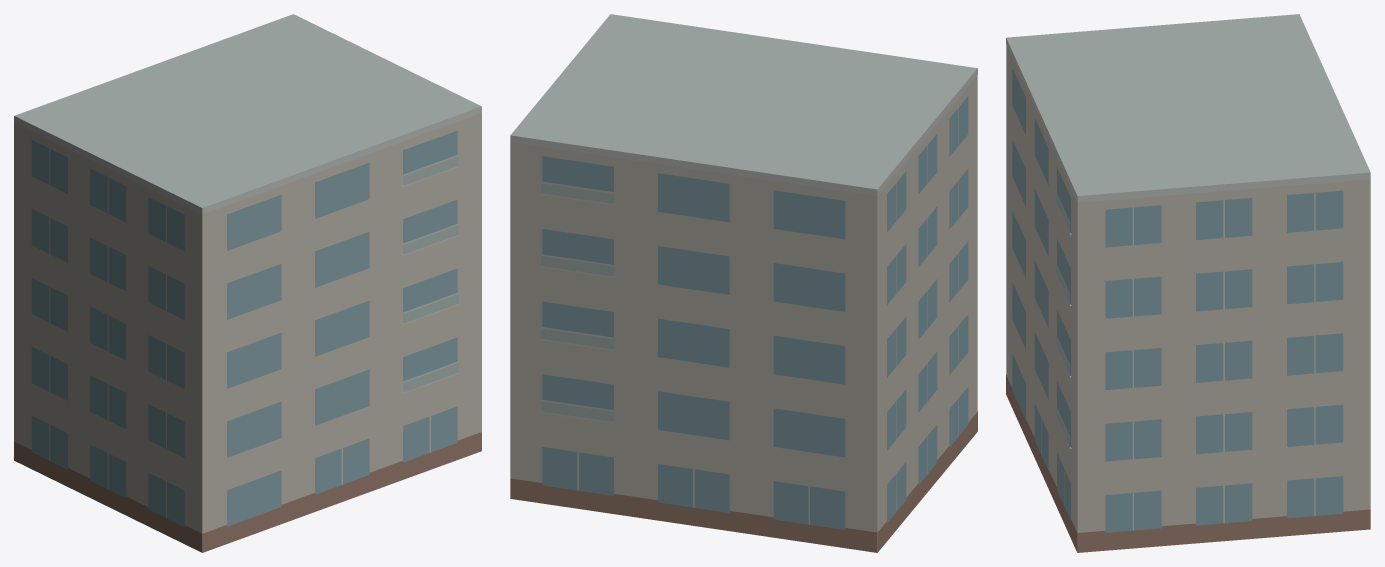
File: survey-upis-32918852.glb
3 renders of one model, left to right at view 1: azimuth 30°, elevation 25°; view 2: azimuth 150°, elevation 25°; view 3: azimuth 270°, elevation 25°, orthographic. The views are drawn at different scales.
Visible parts, largest first — view 1: survey-upis-32918852.tmp; view 2: survey-upis-32918852.tmp; view 3: survey-upis-32918852.tmp.
Part boxes in pixels (x1,y1,x2,y2): survey-upis-32918852.tmp: (14, 14, 481, 552); survey-upis-32918852.tmp: (510, 14, 977, 552); survey-upis-32918852.tmp: (1006, 14, 1370, 552).
Bounding box in the file's own units: 14.34 × 13.1 × 12.14.
